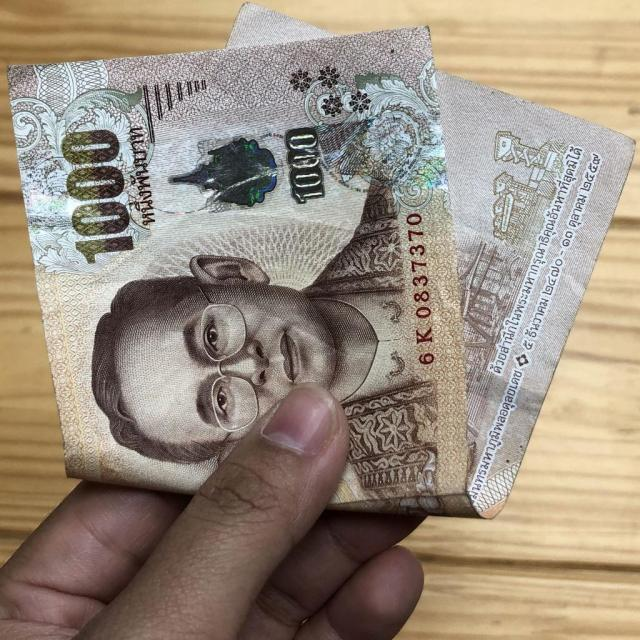THAI1000: (8, 4, 632, 518)
